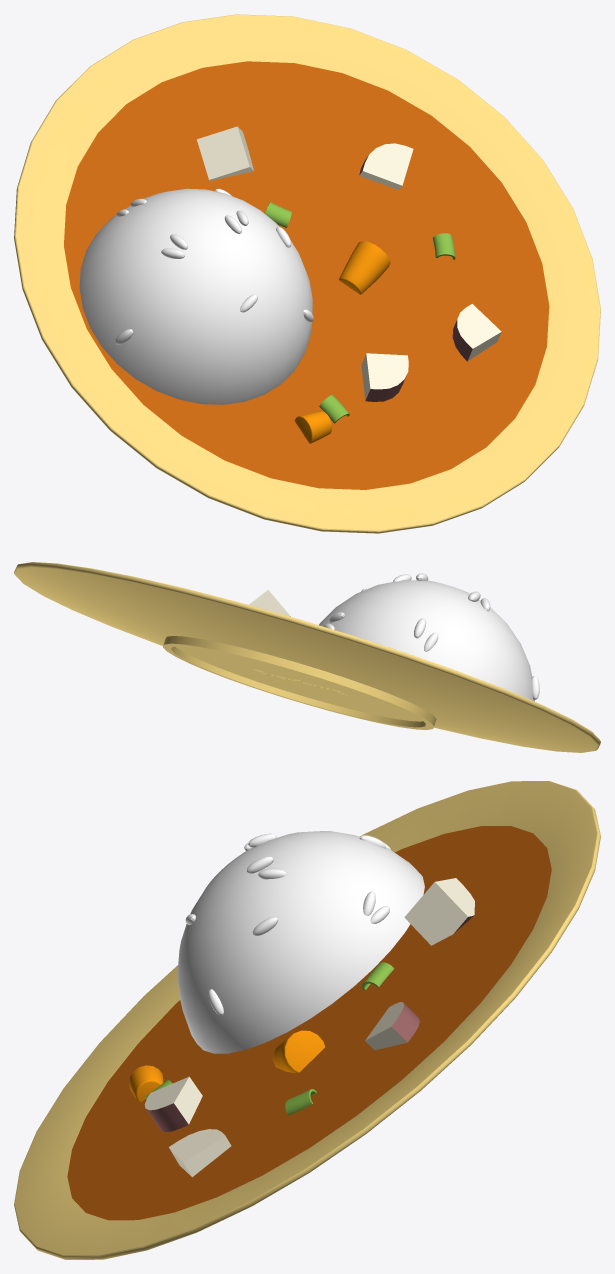
Rendered from curry_rice.glb.
3 views of the same model, one above another, from view 1: azimuth 30°, elevation 25°; view 2: azimuth 150°, elevation 25°; view 3: azimuth 270°, elevation 25° (orthographic). The views are drawn at different scales.
Visible parts, largest first — view 1: Cube.420; view 2: Cube.420; view 3: Cube.420.
Part boxes in pixels (x1,y1,x2,y2): Cube.420: (14,14,600,533); Cube.420: (14,562,600,752); Cube.420: (14,781,600,1259).
Size of the model in its own units: 2.43 by 1.4 by 1.99.
Materials: 1 (1 with a texture image).
